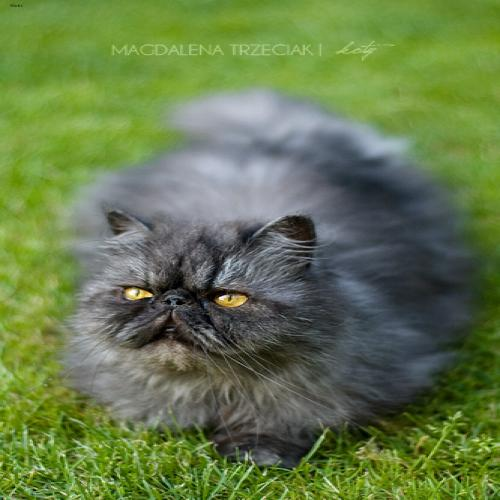persian: (93, 208, 329, 358)
